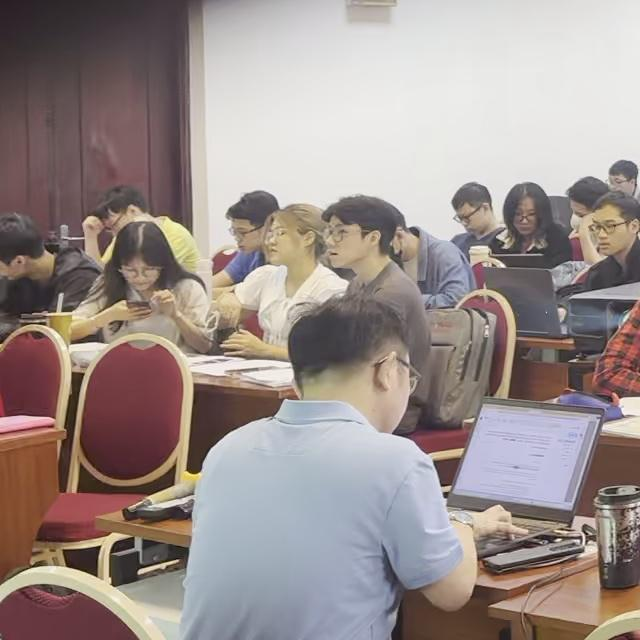Looking away: (591, 202, 635, 257), (455, 196, 493, 236), (511, 192, 542, 235)
Looking forward: (322, 214, 378, 270), (263, 216, 316, 268)
Phone use: (67, 224, 215, 354)
